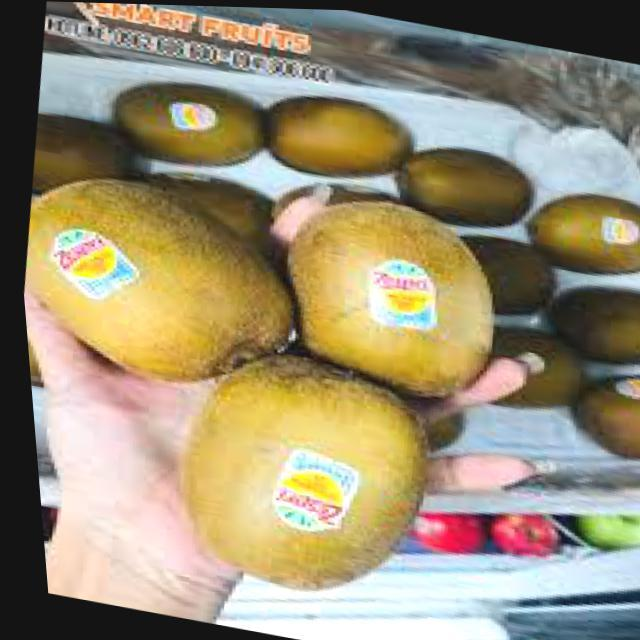kiwi: (151, 331, 446, 609), (12, 160, 317, 405), (251, 177, 522, 414), (248, 79, 438, 195), (102, 66, 282, 181), (382, 131, 547, 236), (28, 105, 179, 214), (513, 176, 640, 284), (535, 272, 640, 370), (557, 356, 640, 470)
